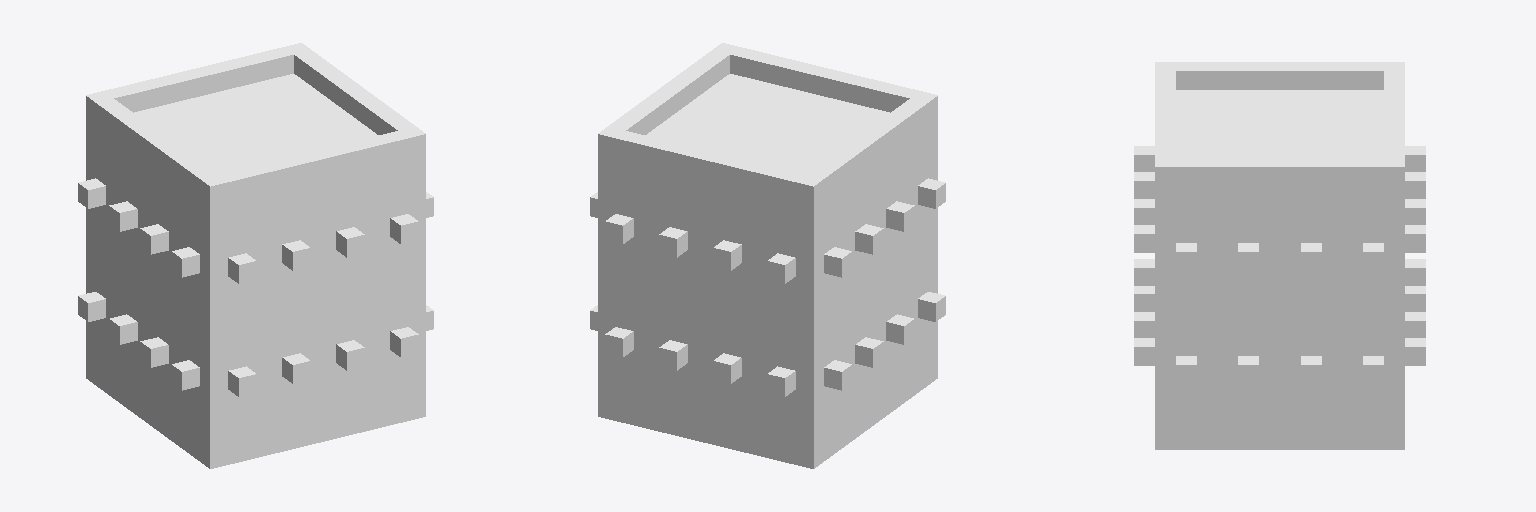
File: beczka.obj
3 renders of one model, left to right at view 1: azimuth 30°, elevation 25°; view 2: azimuth 150°, elevation 25°; view 3: azimuth 270°, elevation 25°, orthographic.
Visible parts, largest first — view 1: object 1; view 2: object 1; view 3: object 1.
Part boxes in pixels (left/top/right/bottom): object 1: left=78, top=43, right=433, bottom=468; object 1: left=590, top=43, right=945, bottom=468; object 1: left=1134, top=62, right=1425, bottom=449.
Size of the model in its own units: 1.4 by 1.5 by 1.4.